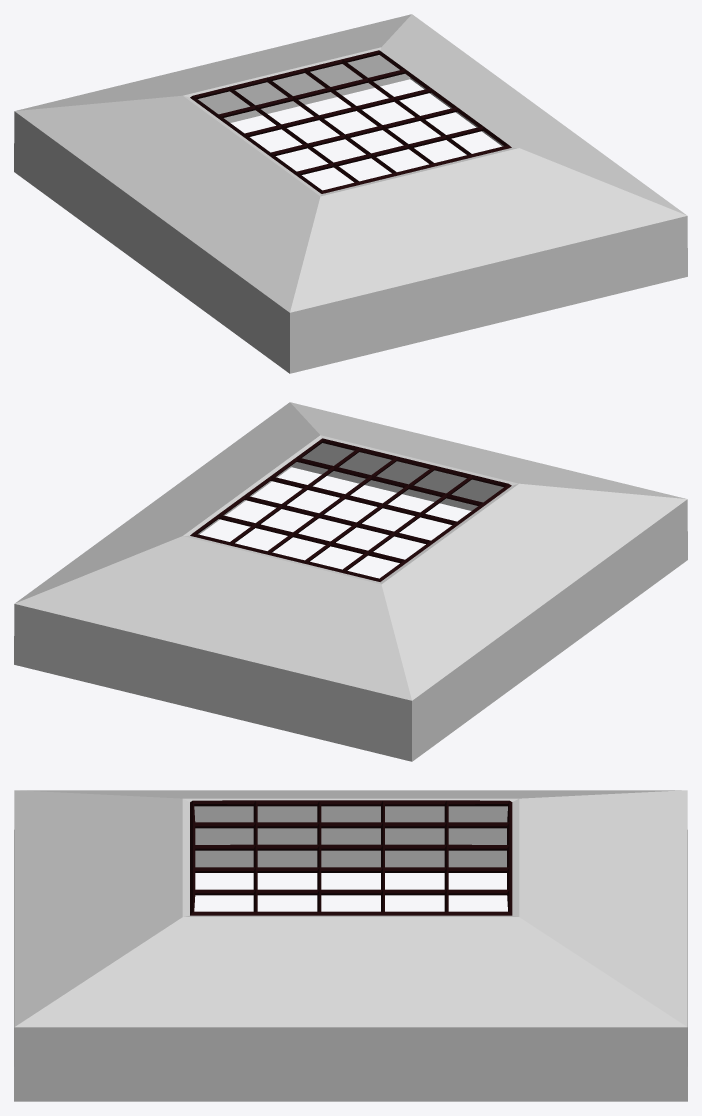
The model's file is roof.glb.
The picture shows the model from 3 angles, top to bottom: view 1: azimuth 30°, elevation 25°; view 2: azimuth 150°, elevation 25°; view 3: azimuth 270°, elevation 25°; orthographic projection. The views are drawn at different scales.
Visible parts, largest first — view 1: Roof, Grill; view 2: Roof, Grill; view 3: Roof, Grill.
Part boxes in pixels (box(x1,y1,x2,y2)): Roof: box(14, 14, 687, 373); Grill: box(190, 50, 511, 193); Roof: box(14, 402, 687, 761); Grill: box(190, 438, 511, 581); Roof: box(14, 790, 687, 1101); Grill: box(190, 800, 512, 915).
Size of the model in its own units: 10.3 by 2.57 by 12.36.
